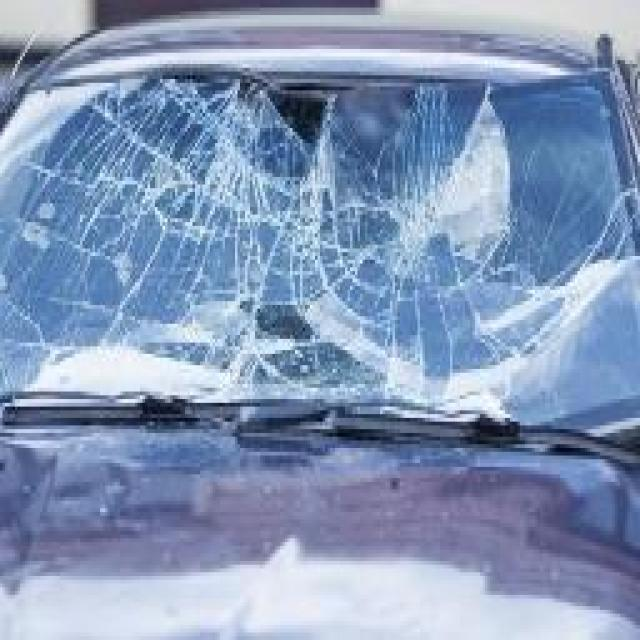Windshield: (0, 87, 640, 440)
